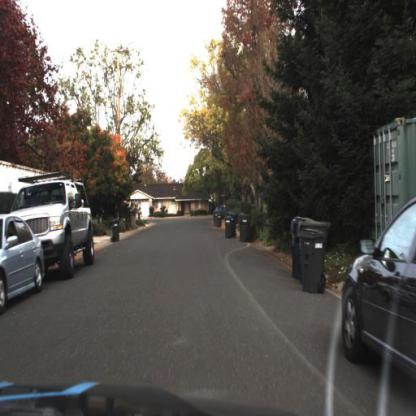car: (340, 192, 416, 385), (13, 175, 96, 281), (1, 213, 45, 308)
